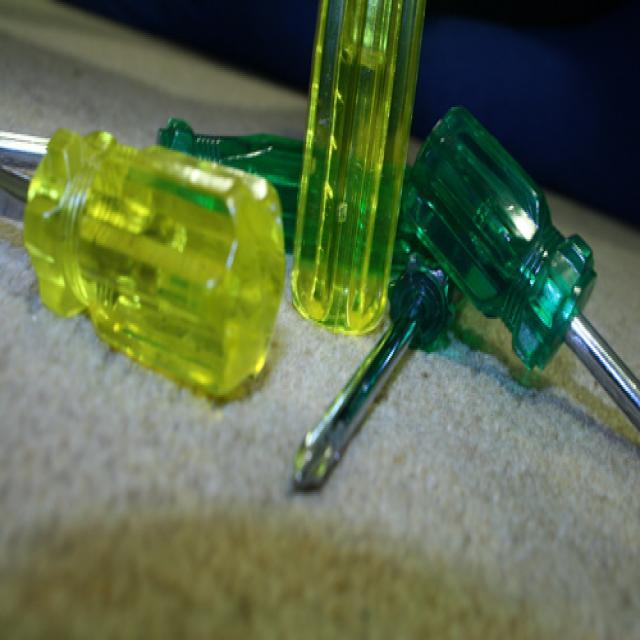screwdriver: (393, 90, 640, 456), (0, 134, 300, 362), (279, 0, 443, 356), (276, 225, 480, 511)
